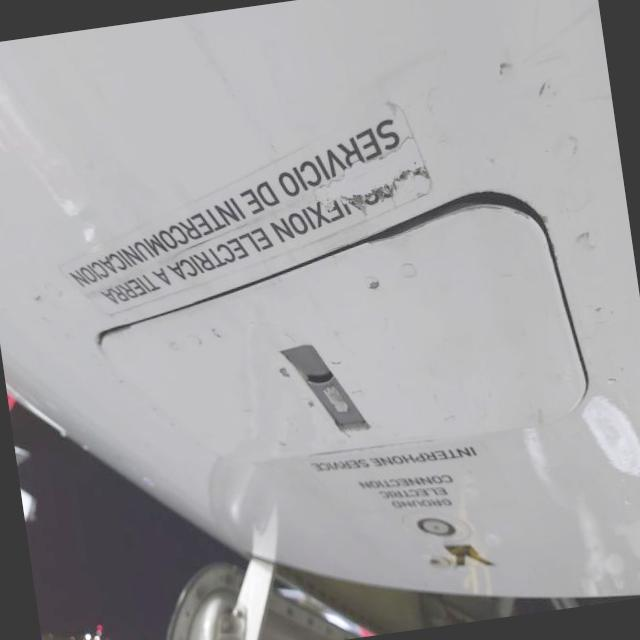dent: (356, 207, 456, 251)
